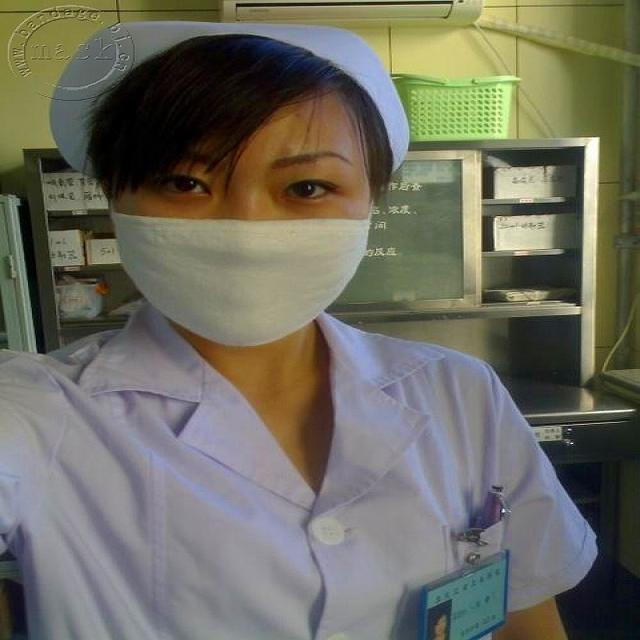mask: (121, 68, 367, 346)
